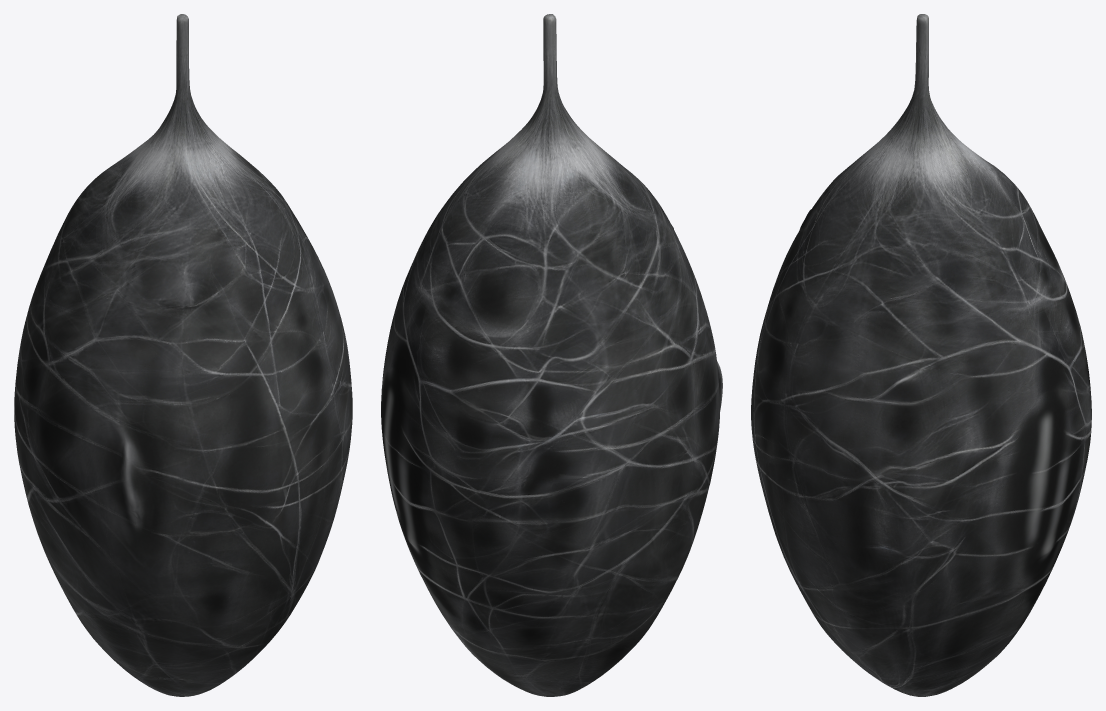
The model's file is web_cocoon.glb.
3 renders of one model, left to right at view 1: azimuth 30°, elevation 25°; view 2: azimuth 150°, elevation 25°; view 3: azimuth 270°, elevation 25°, orthographic.
Size of the model in its own units: 0.9087 by 2 by 0.9118.
1 material, 1 textured.
